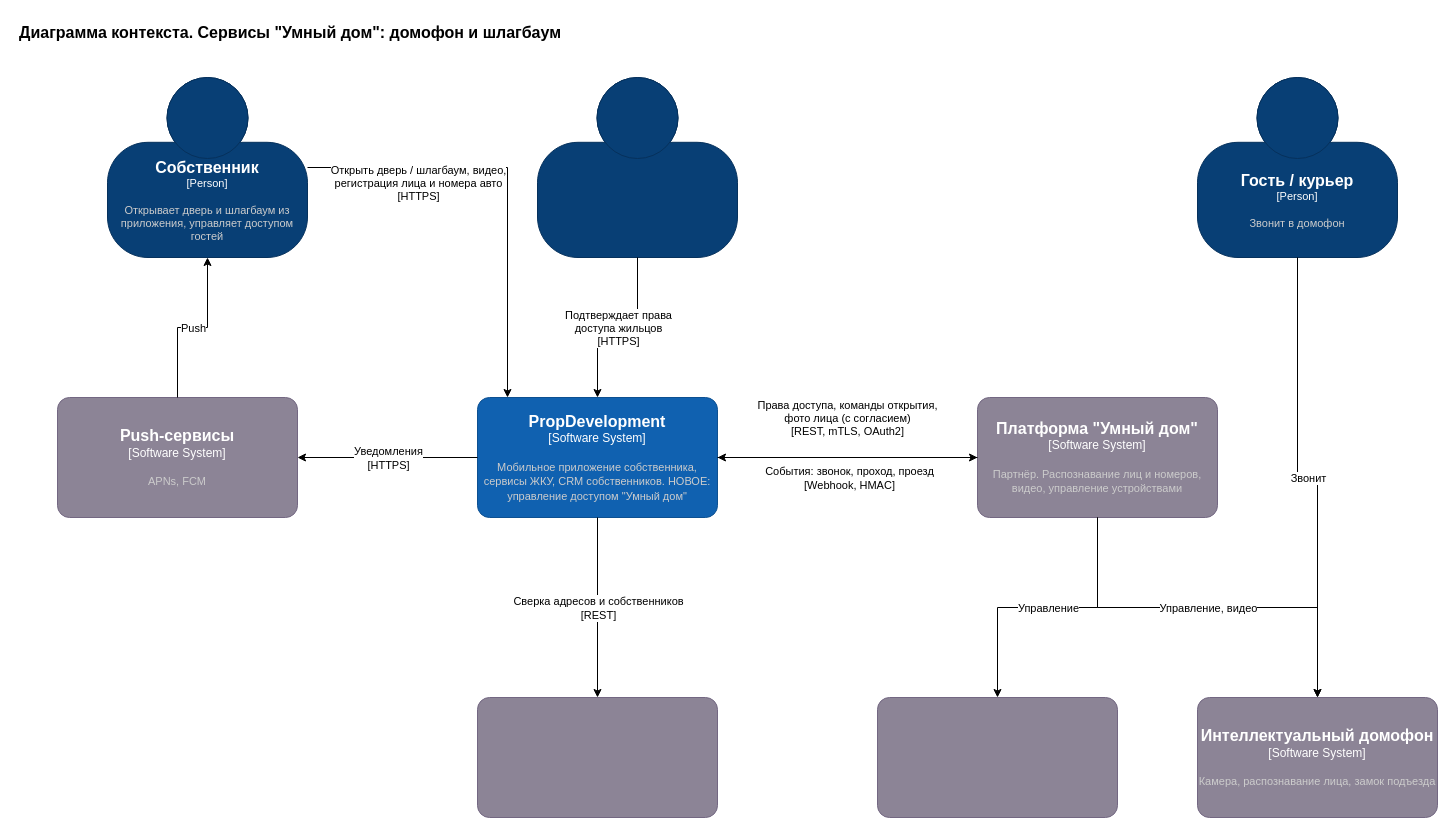
Image size: 1455x835. Some labels were removed from this diagram. The centre of each missing label's shape, as x and y in pixels:
Интеллектуальный шлагбаум [Software System] Камера, распознавание номеров: (x=997, y=757)
Поставщики ресурсов ЖКХ [Software System] Системы УК: данные о доме, начисления: (x=597, y=757)
Сотрудник УК [Person] Подтверждает список жильцов и автомобилей по ЖК: (x=637, y=167)
